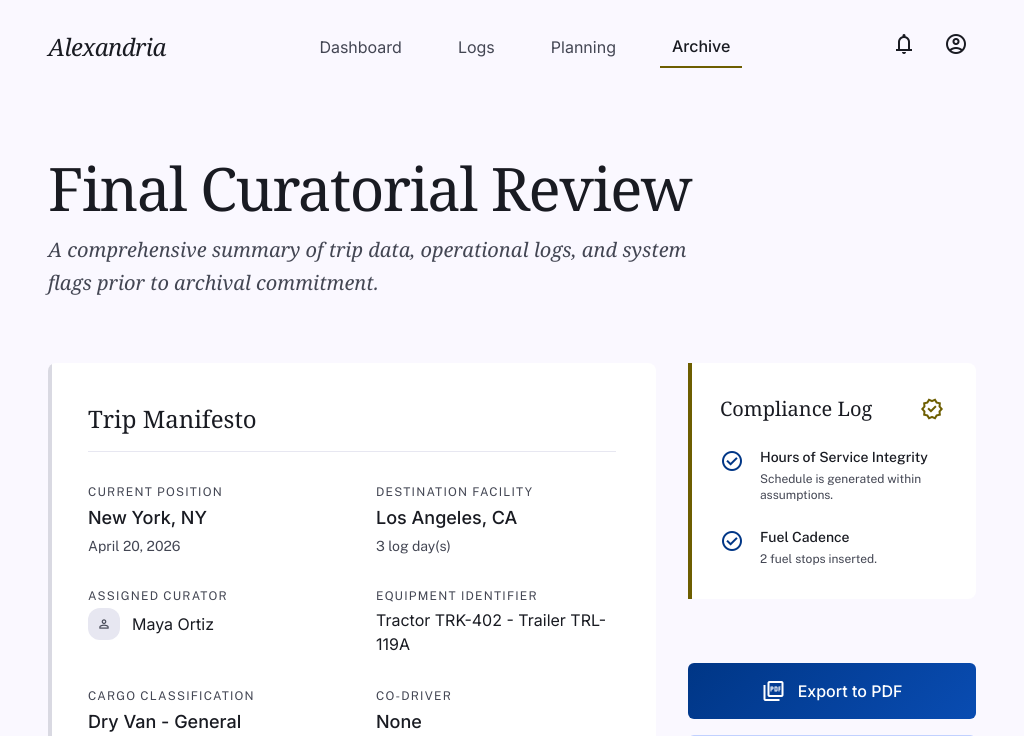
Scenario: Truck HOS planner frontend › review export buttons print and archive current trip
Click the button "Export to PDF": point(832, 691) left=688, top=663, right=976, bottom=719
(page scrolled)
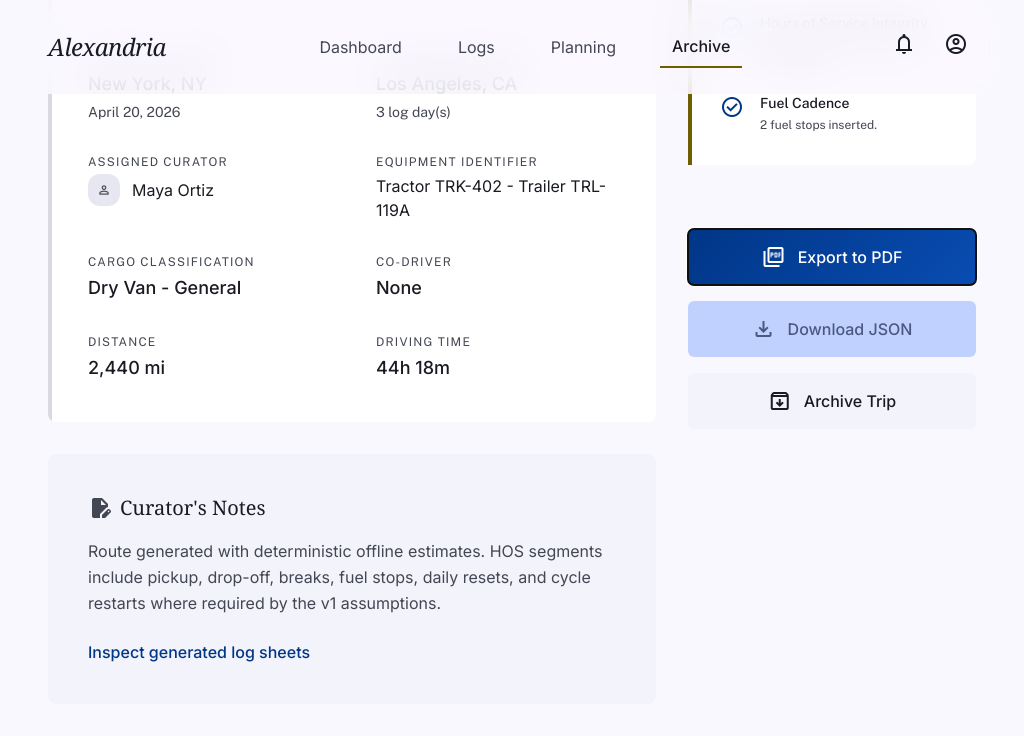
Click the button "Archive Trip": point(832, 401) left=688, top=373, right=976, bottom=429
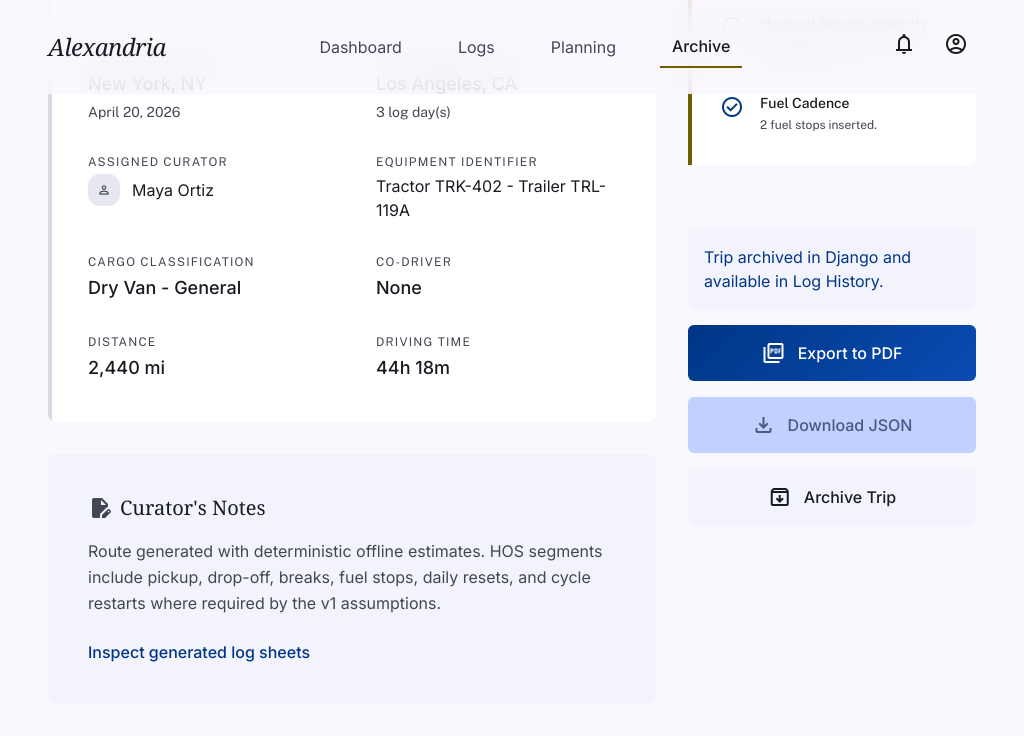
Now the text "Trip archived in Django and available in Log History." is shown, box left=688, top=229, right=976, bottom=309
